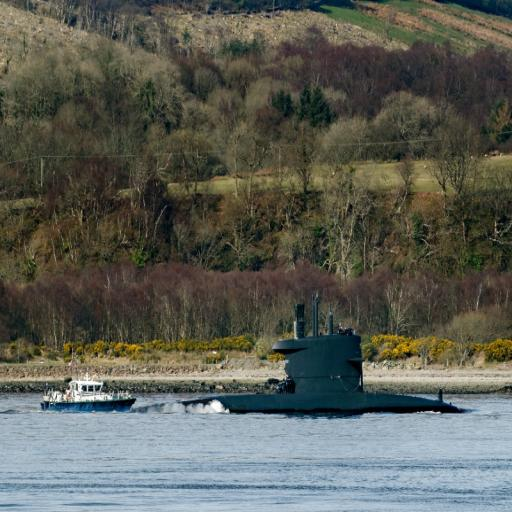submarine: (142, 340, 472, 415)
